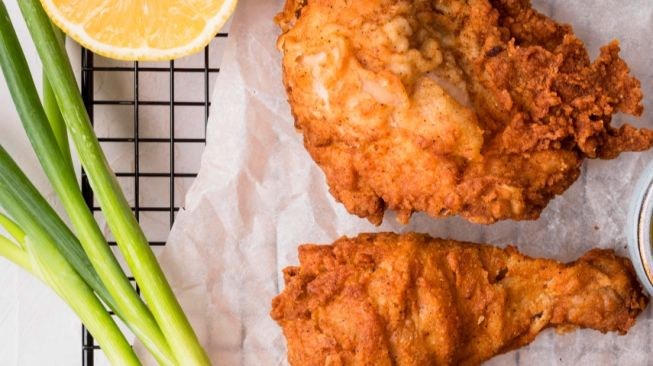Ayam: (223, 5, 639, 228), (282, 221, 639, 366)
